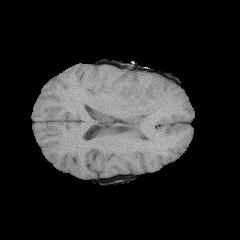glioma: (112, 71, 172, 134)
